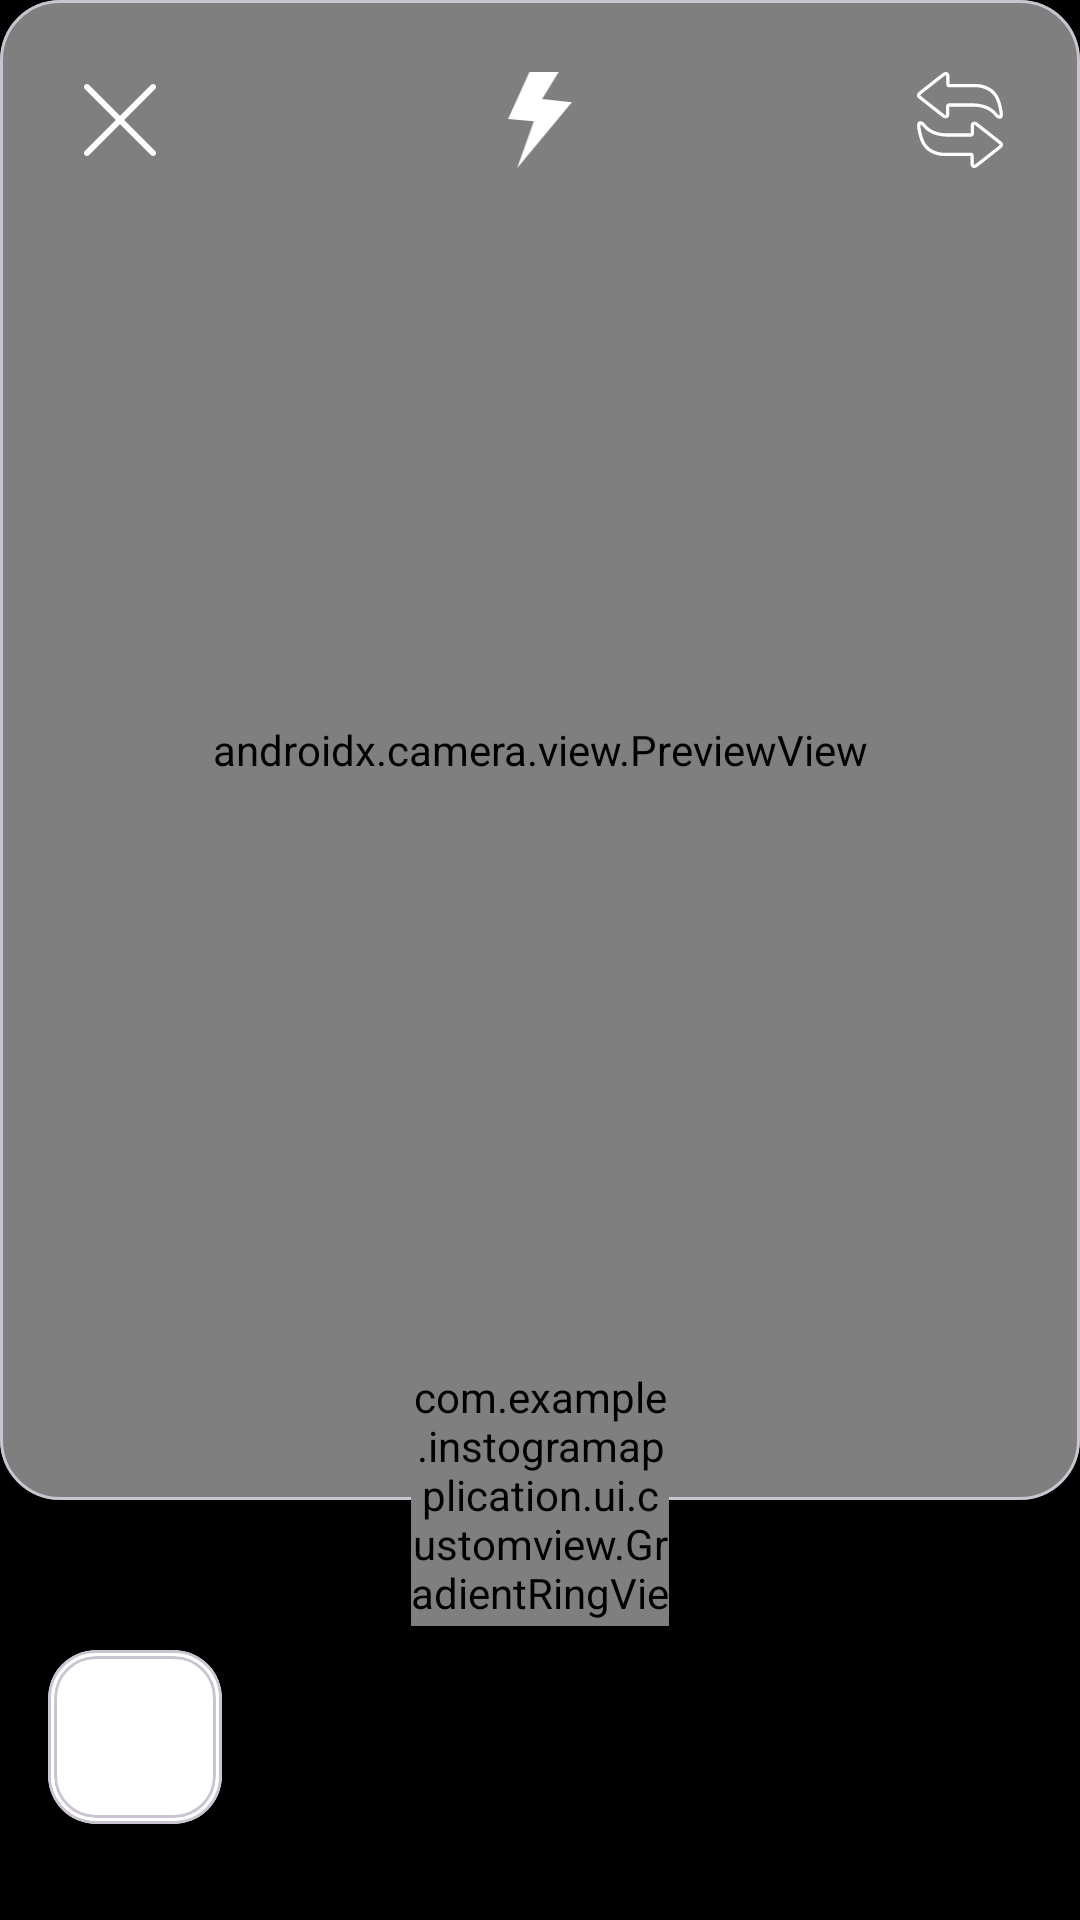

Icons on this 1080w x 1920h Android screen, each with the point to tap as (x,y):
flash: (540,120)
ganti: (960,120)
kembali: (120,120)
